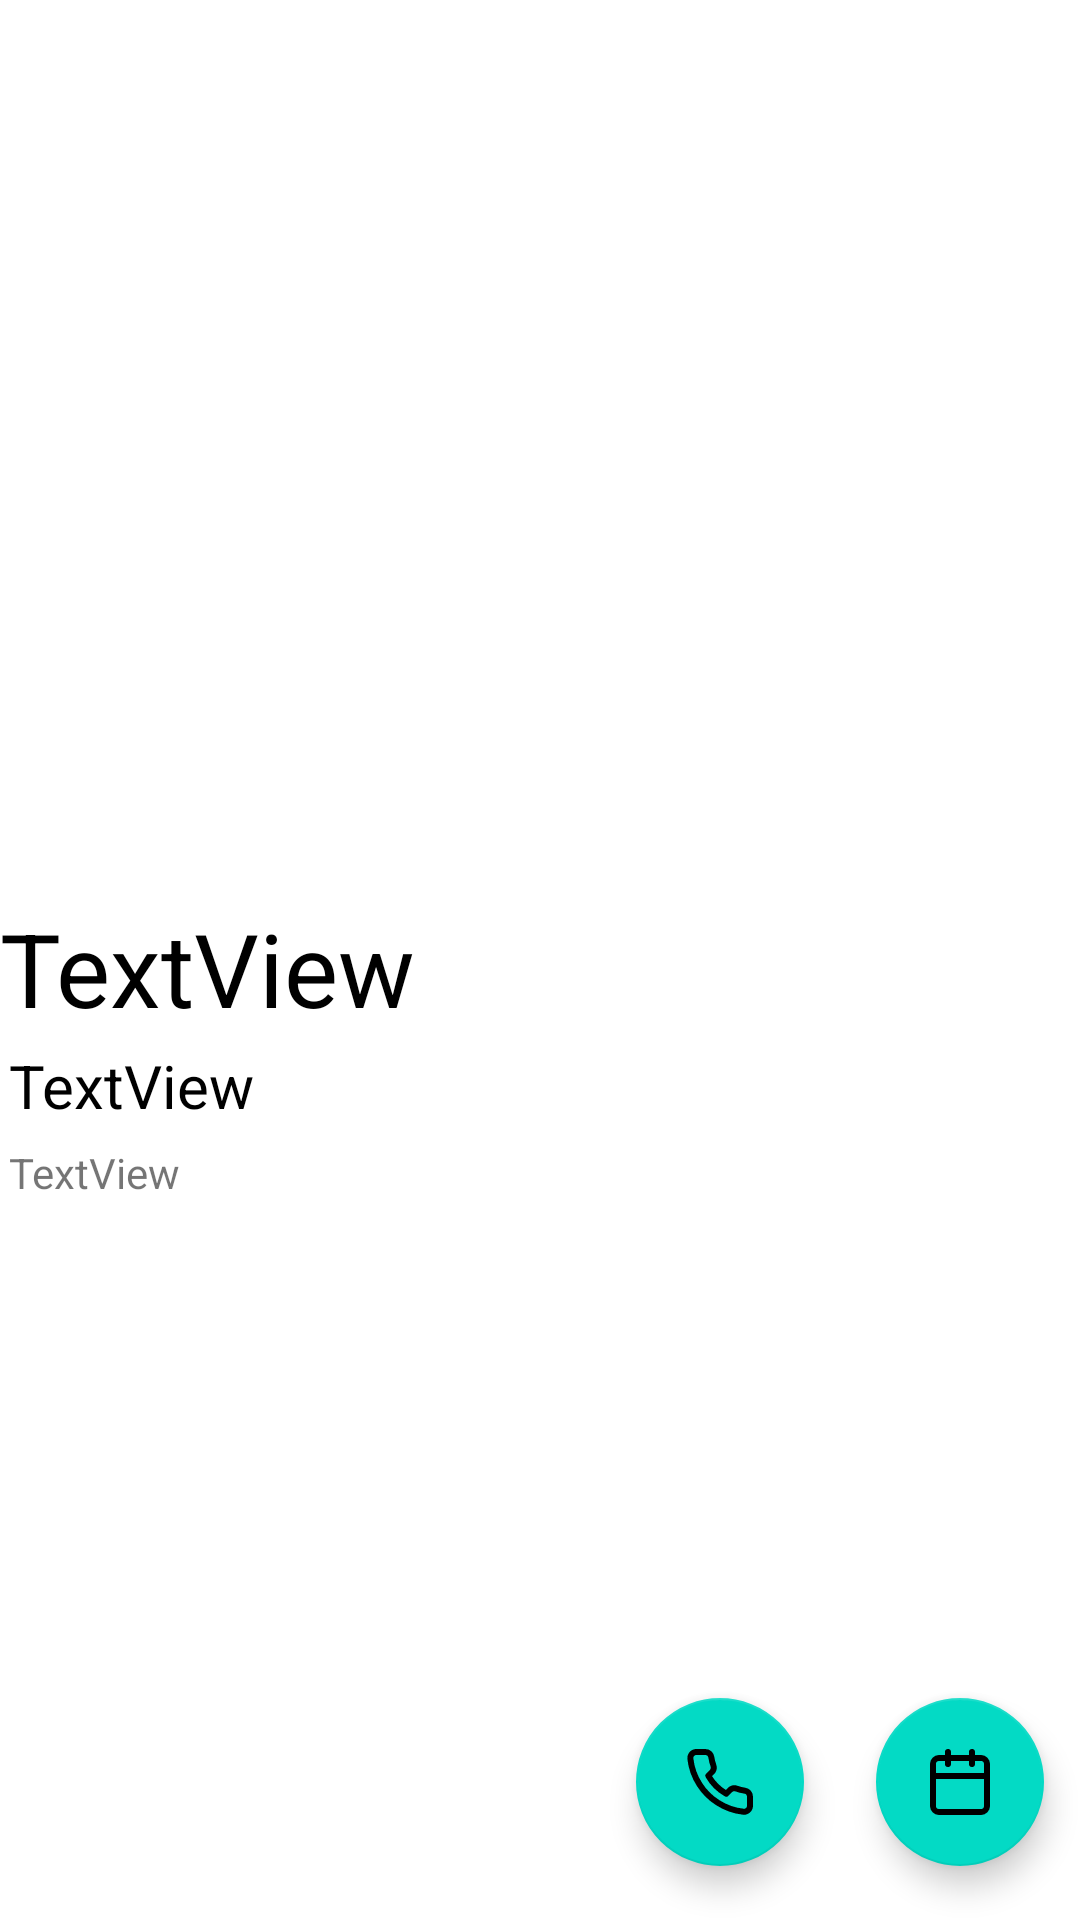

Icon bounding boxes for this 1080x1920 phone screenshot, format (x1, y1, x2, y2):
calendar action: (876, 1698, 1047, 1884)
phone action: (636, 1698, 805, 1884)
